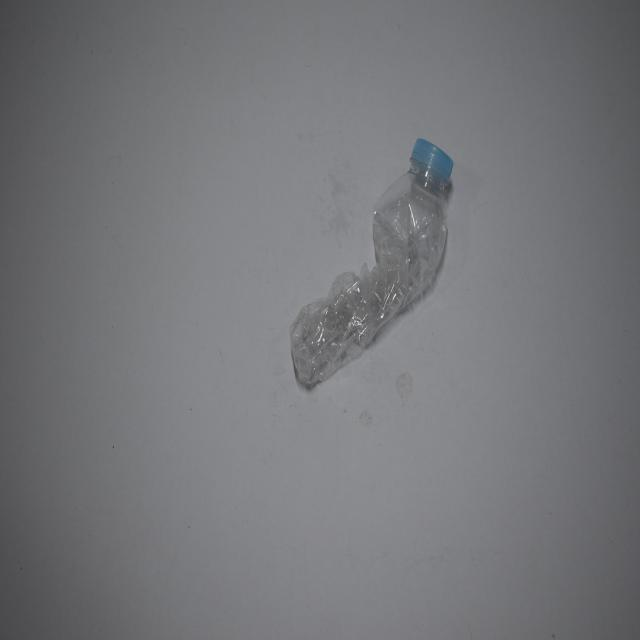bottle: (288, 124, 470, 410)
